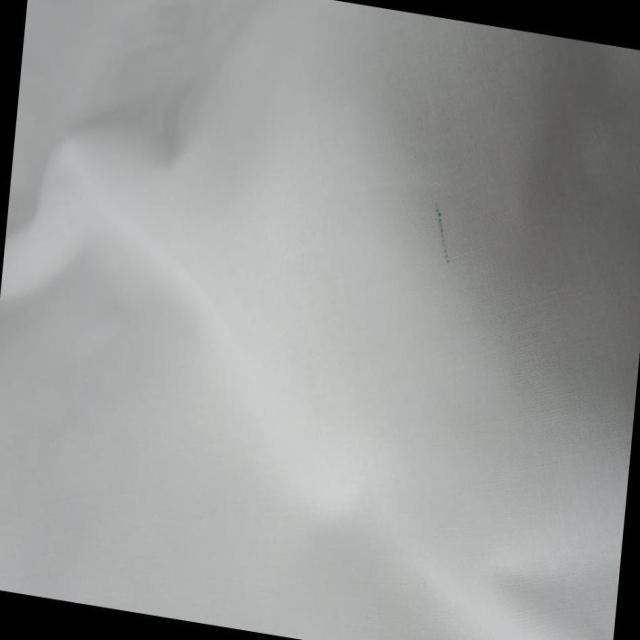contamination: (422, 193, 464, 278)
